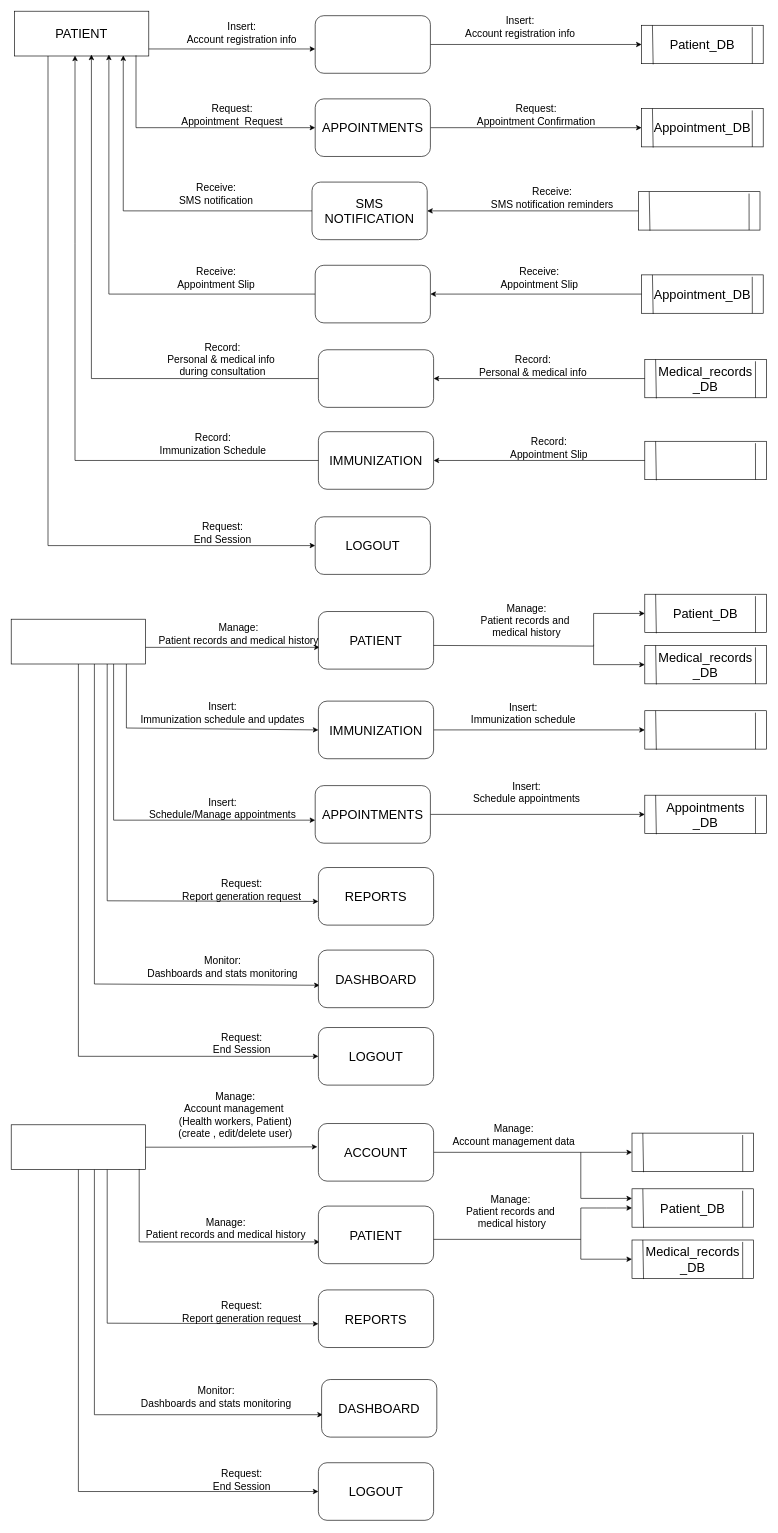
This 778x1533 diagram has some shape labels left out. The shapes that lost their labels are listed below. From the top down, each one's centre as x and y in pixels, then its label:
At pixel 372 44: "REGISTER".
At pixel 699 210: "Notification_DB".
At pixel 372 294: "APPOINTMENT SLIP".
At pixel 376 378: "MEDICAL RECORDS".
At pixel 705 460: "Immunization_DB".
At pixel 78 641: "HEALTH WORKER".
At pixel 705 729: "Immunization _DB".
At pixel 78 1147: "ADMIN".
At pixel 692 1152: "Health_worker _DB".
